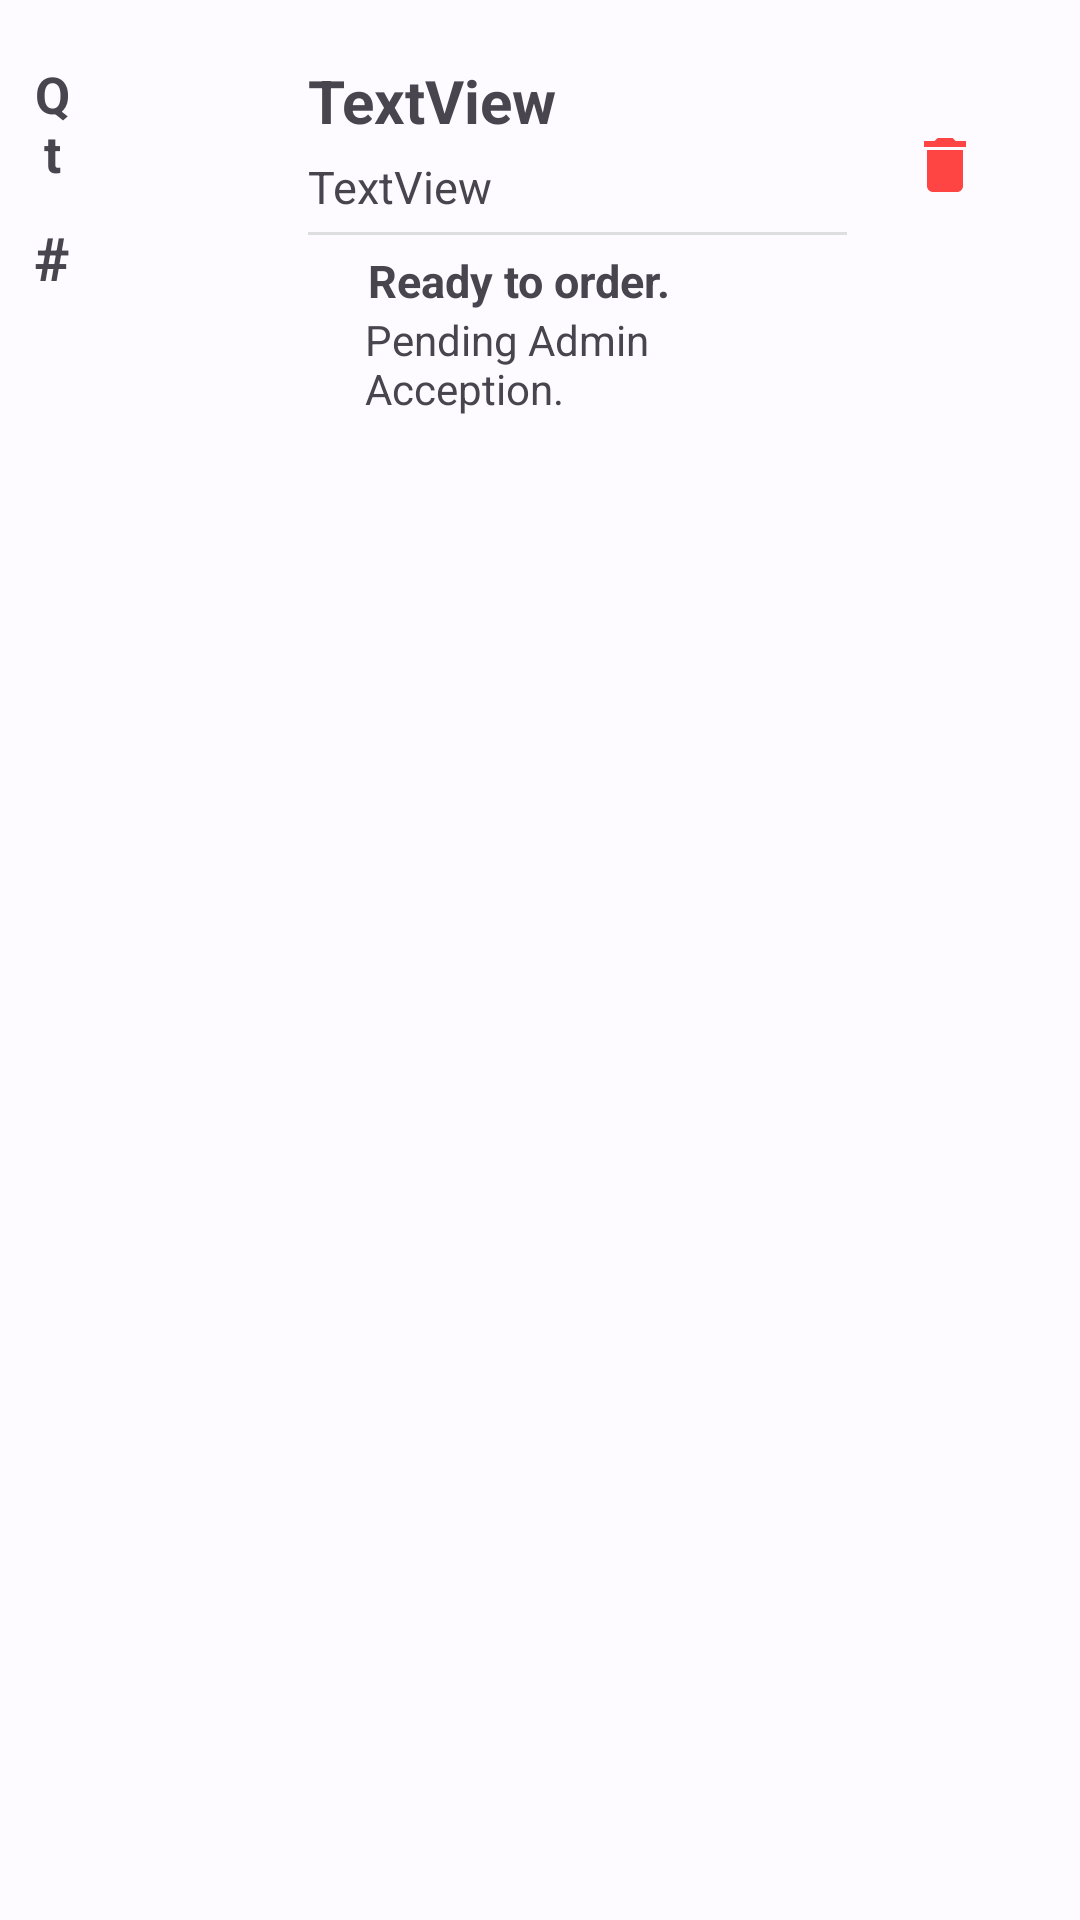

Named icons in this screenshot (1080 x 1920) and their bounding boxes, (x1, y1, x2, y2):
delete: (924, 138, 966, 192)
